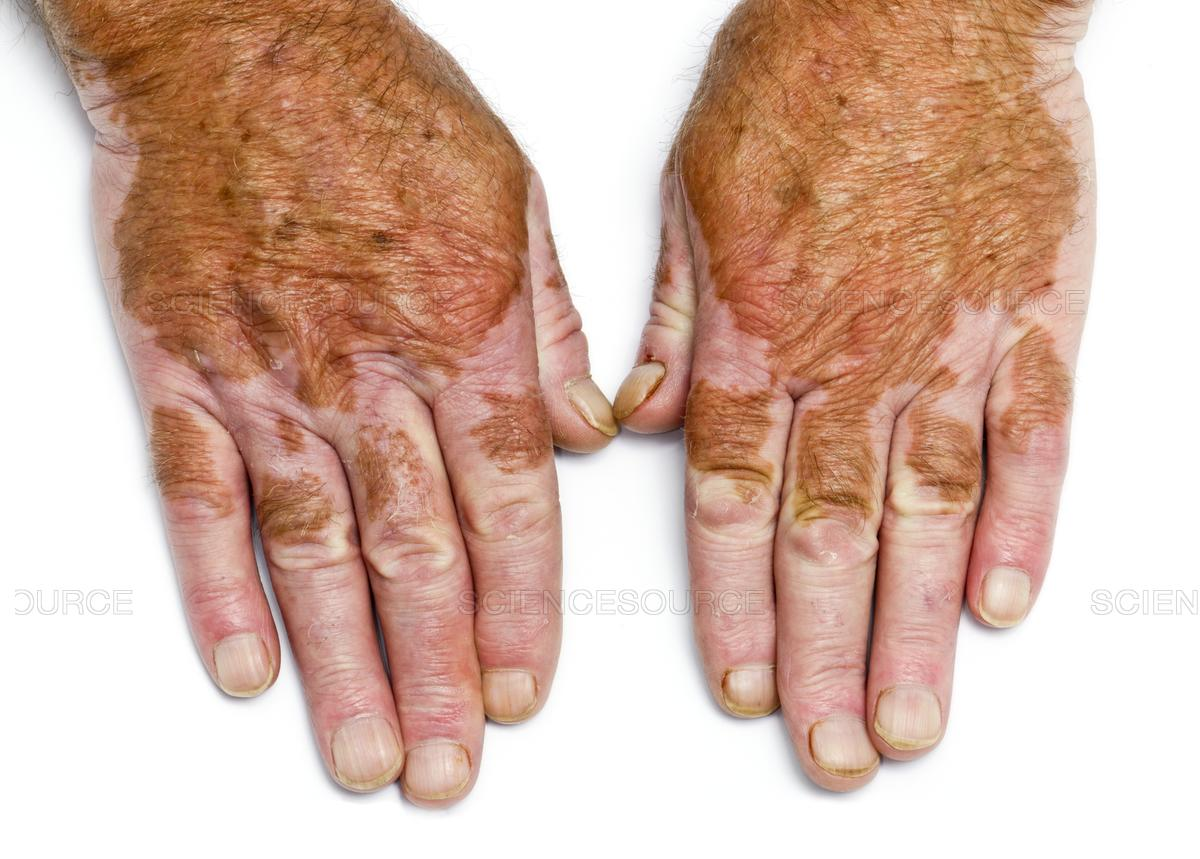vitiligo: (88, 162, 585, 730), (643, 153, 1060, 743)
